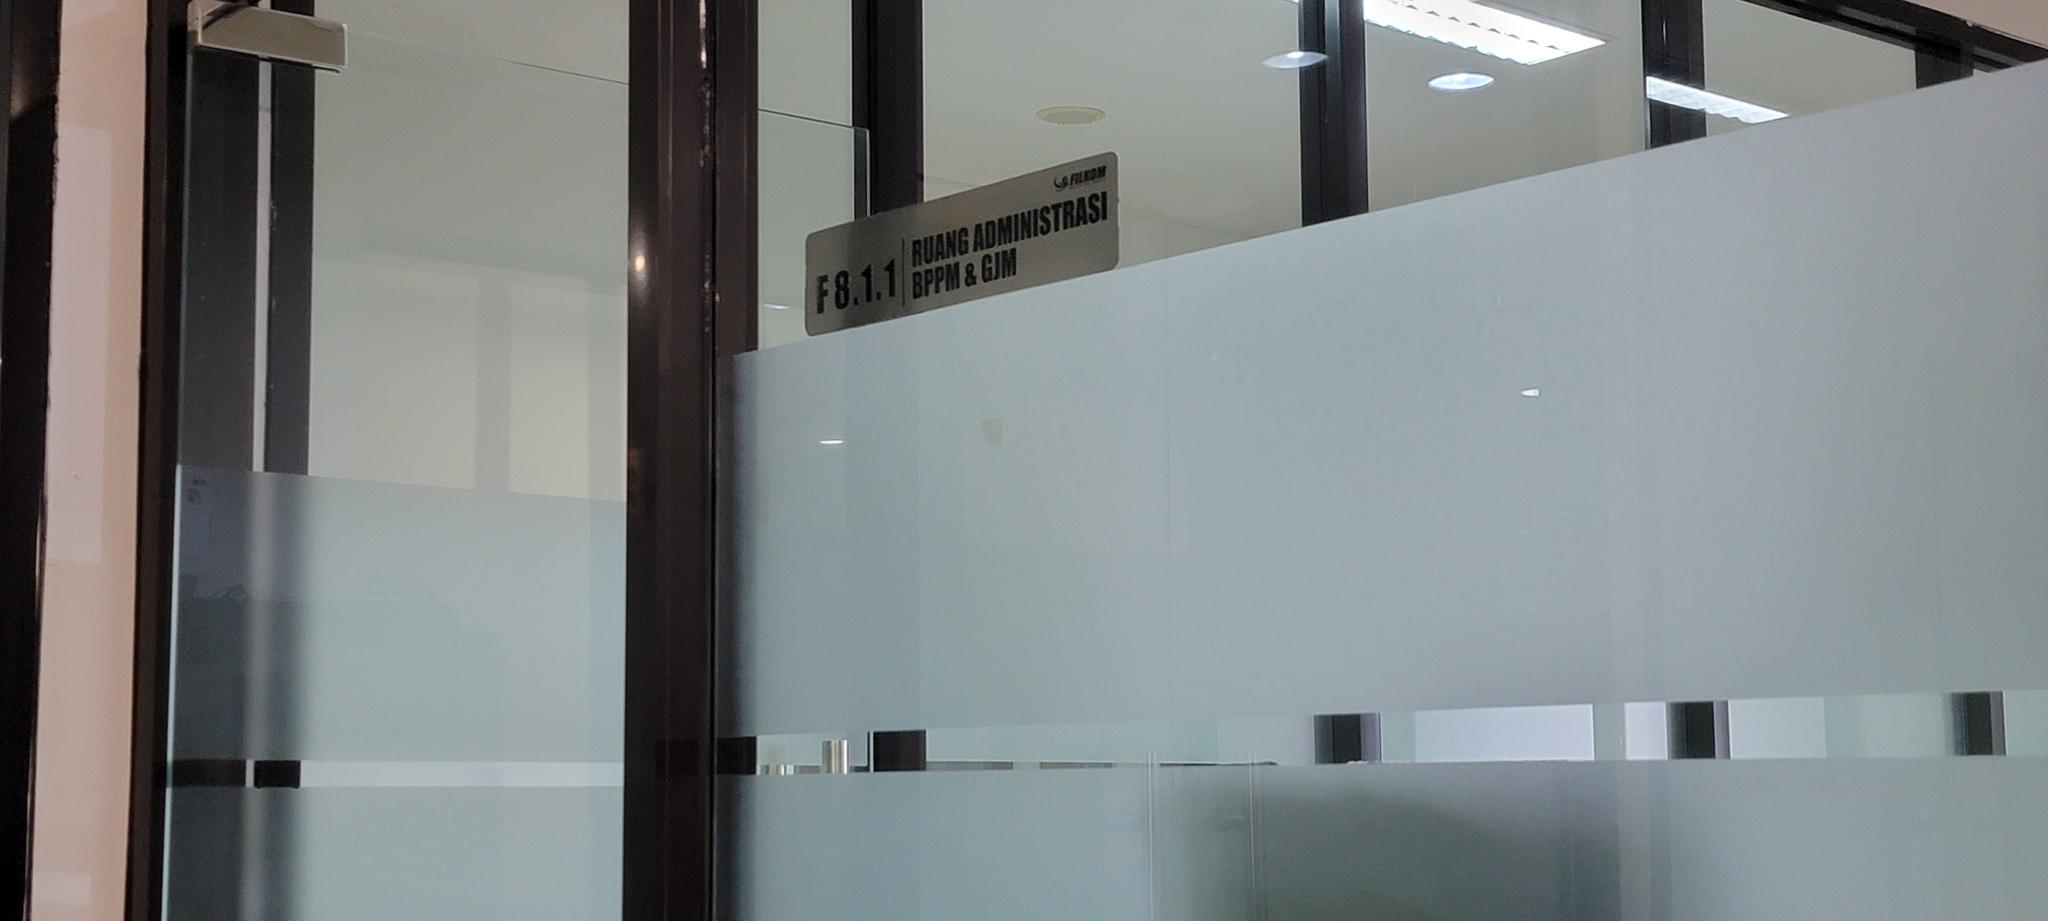plate: (803, 150, 1123, 337)
